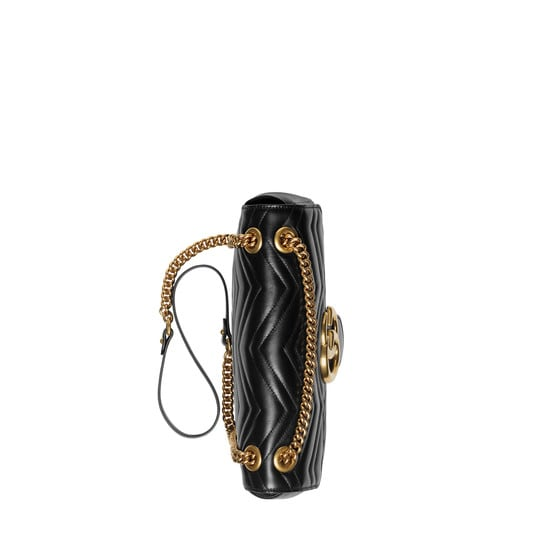Gucci: (155, 193, 341, 502), (245, 266, 311, 439), (315, 294, 351, 392)
